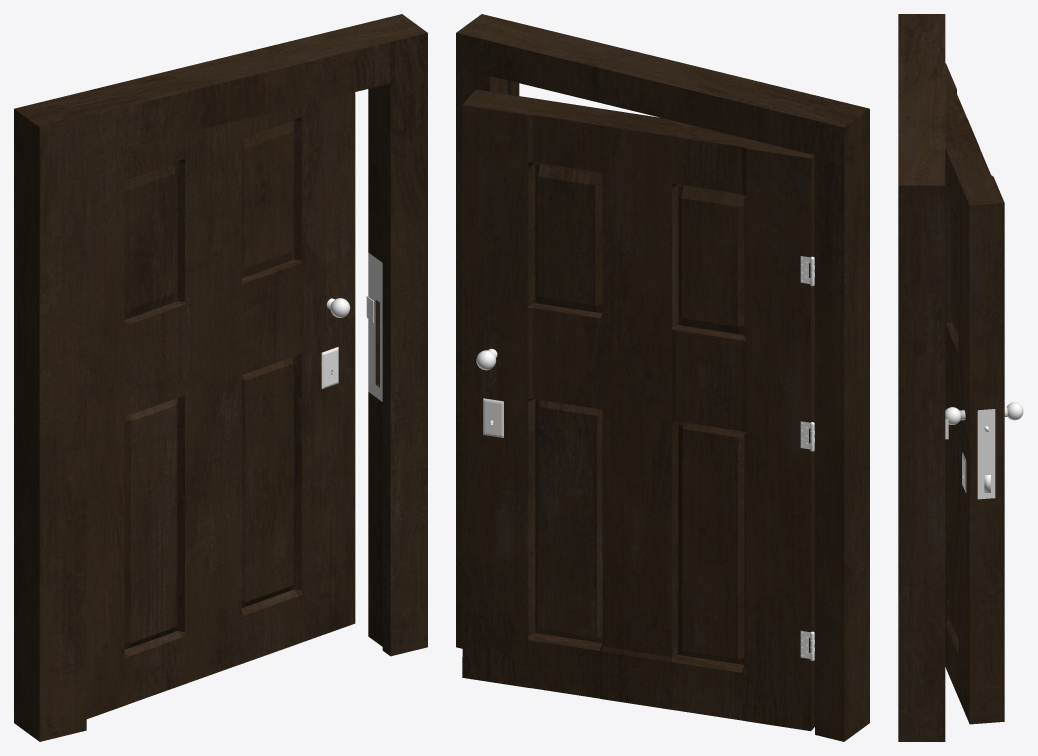
Rendered from interiorDoor.glb.
3 views of the same model, side by side, from view 1: azimuth 30°, elevation 25°; view 2: azimuth 150°, elevation 25°; view 3: azimuth 270°, elevation 25° (orthographic). The views are drawn at different scales.
Parts seen in each view (by area): view 1: Door.002, door frame.001, door frame, Door.001; view 2: Door.002, door frame.001, Door.001; view 3: door frame.001, Door.002, Door.001.
Boxes of the visible parts, <box> form: Door.002: <box>86,92,355,718</box>; door frame.001: <box>14,14,427,741</box>; door frame: <box>366,252,382,401</box>; Door.001: <box>321,298,350,389</box>; Door.002: <box>462,89,814,731</box>; door frame.001: <box>456,14,869,741</box>; Door.001: <box>476,256,814,660</box>; door frame.001: <box>898,14,945,741</box>; Door.002: <box>945,63,1004,724</box>; Door.001: <box>945,402,1023,499</box>.
Bounding box in the file's own units: 2.55 × 3.86 × 0.7867.
Materials: 2 (1 with a texture image).
